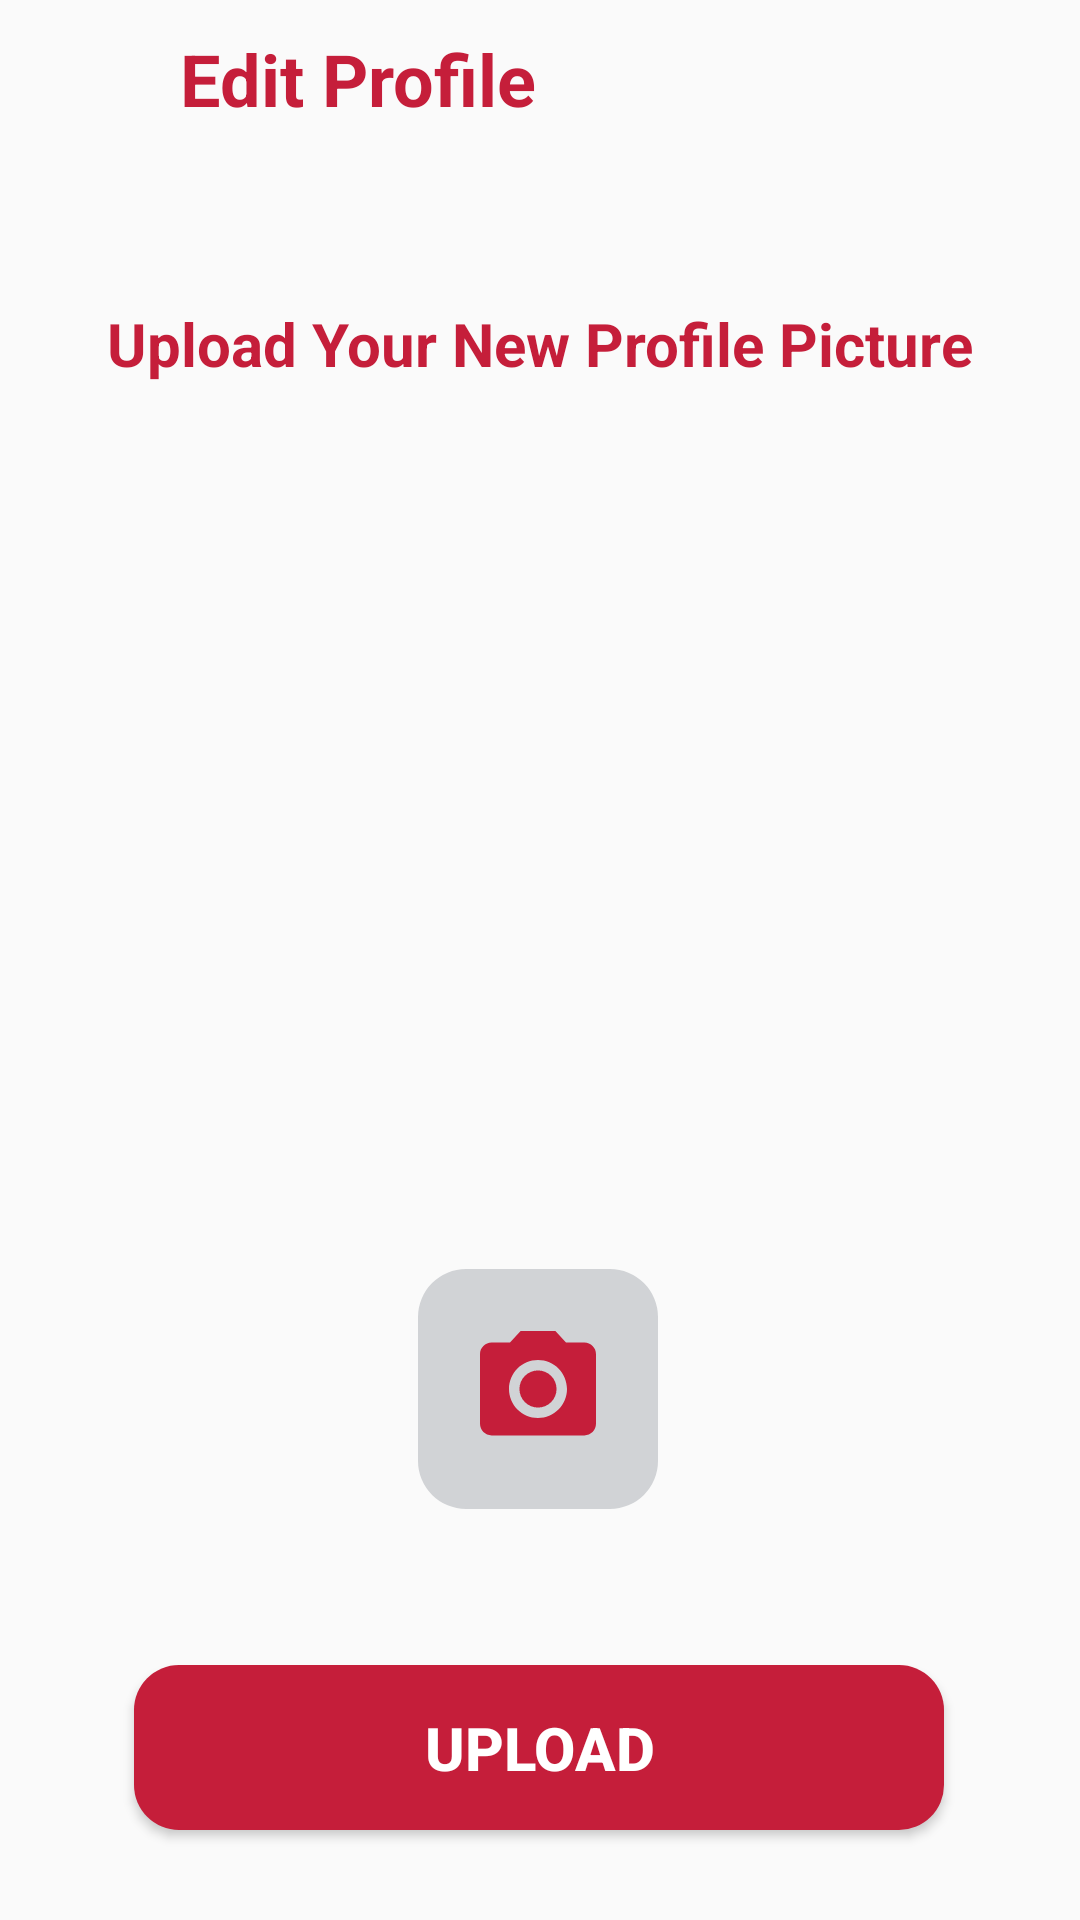

Icon bounding boxes for this 1080*1920 phone screenshot, format BBox(x1, y1, x2, y2):
cam: BBox(418, 1269, 658, 1509)
